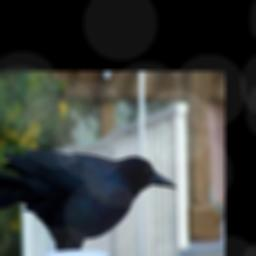Crow: (0, 147, 178, 249)
